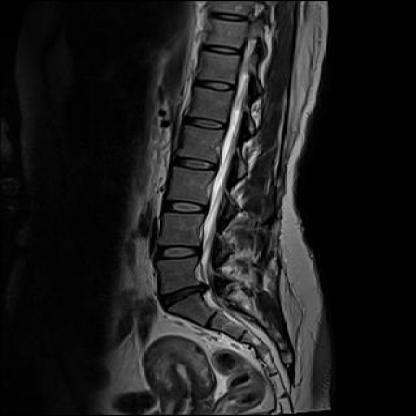Degenerative Disc Diseaserotation: (158, 285, 207, 305)
Disc Herniationrotation: (157, 285, 206, 305)
